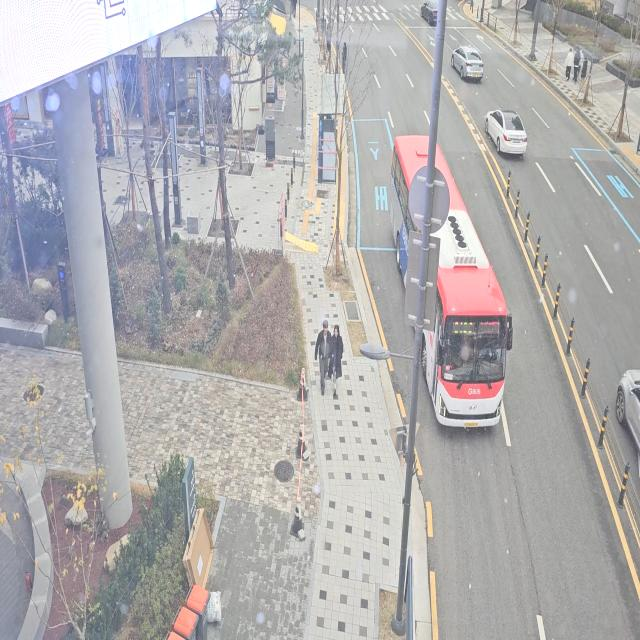Bus: (383, 118, 526, 460)
Car: (470, 91, 538, 165), (603, 351, 640, 478), (444, 34, 494, 90), (416, 0, 447, 28)
